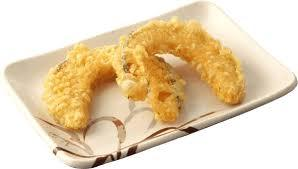pumpkin: (117, 20, 246, 105), (46, 47, 183, 127)
